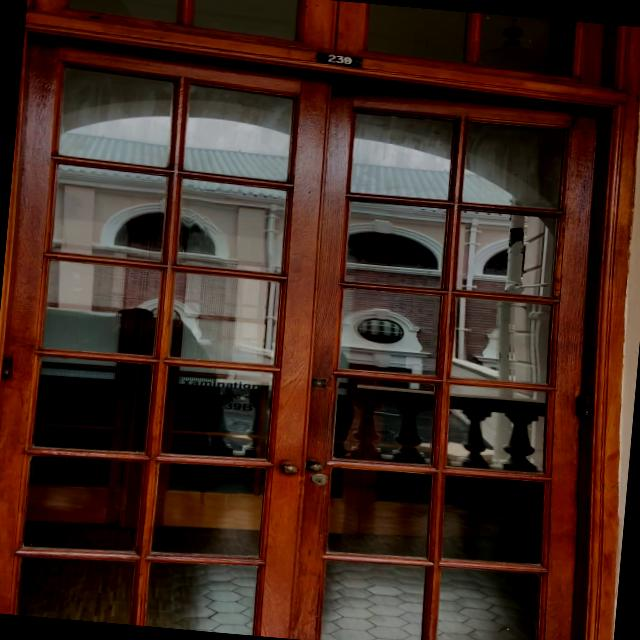room239: (312, 48, 366, 71)
